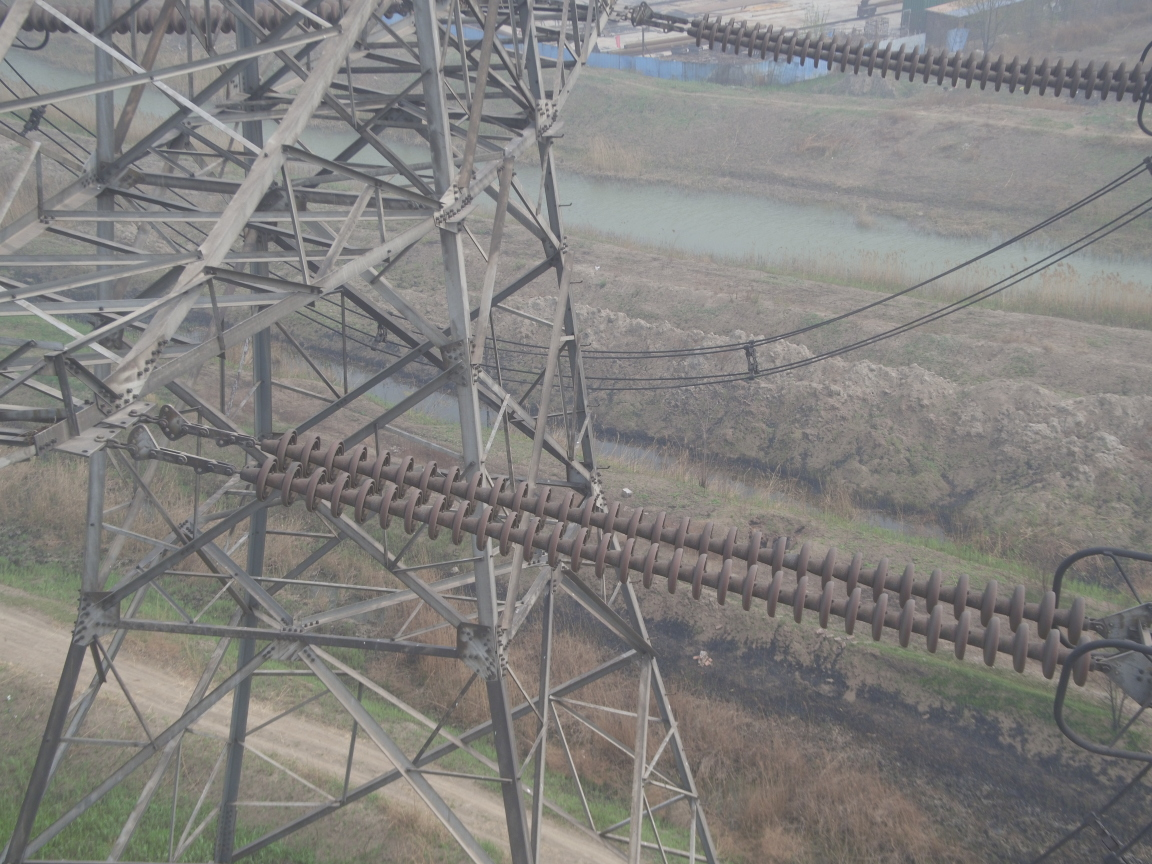insulator: (188, 420, 1137, 690), (661, 9, 1152, 105)
